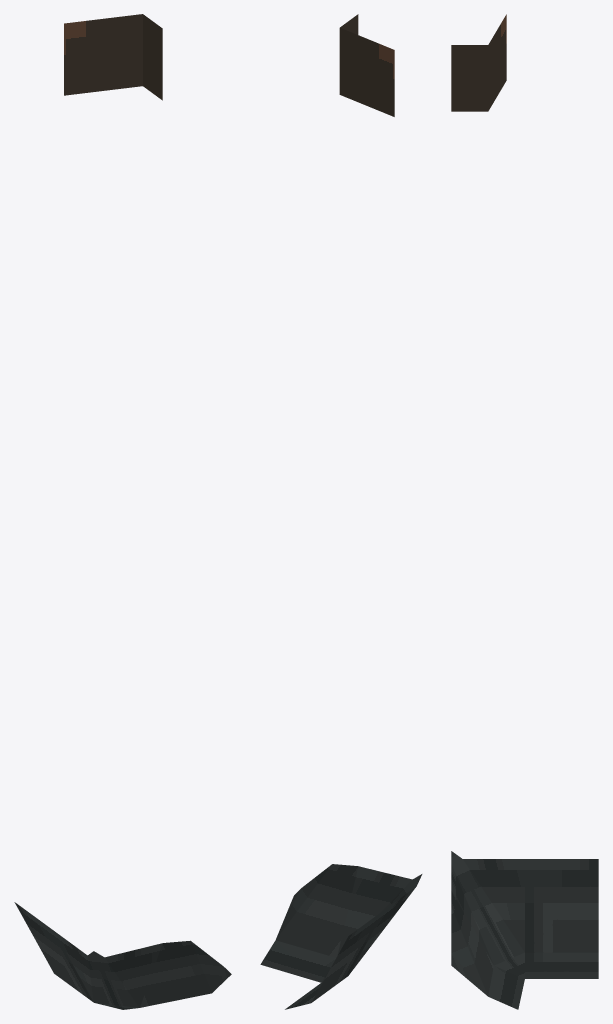
3 renders of one model, left to right at view 1: azimuth 30°, elevation 25°; view 2: azimuth 150°, elevation 25°; view 3: azimuth 270°, elevation 25°, orthographic. The views are drawn at different scales.
Bounding box in the file's own units: 1 × 7 × 1.
Materials: 3 (3 with a texture image).
